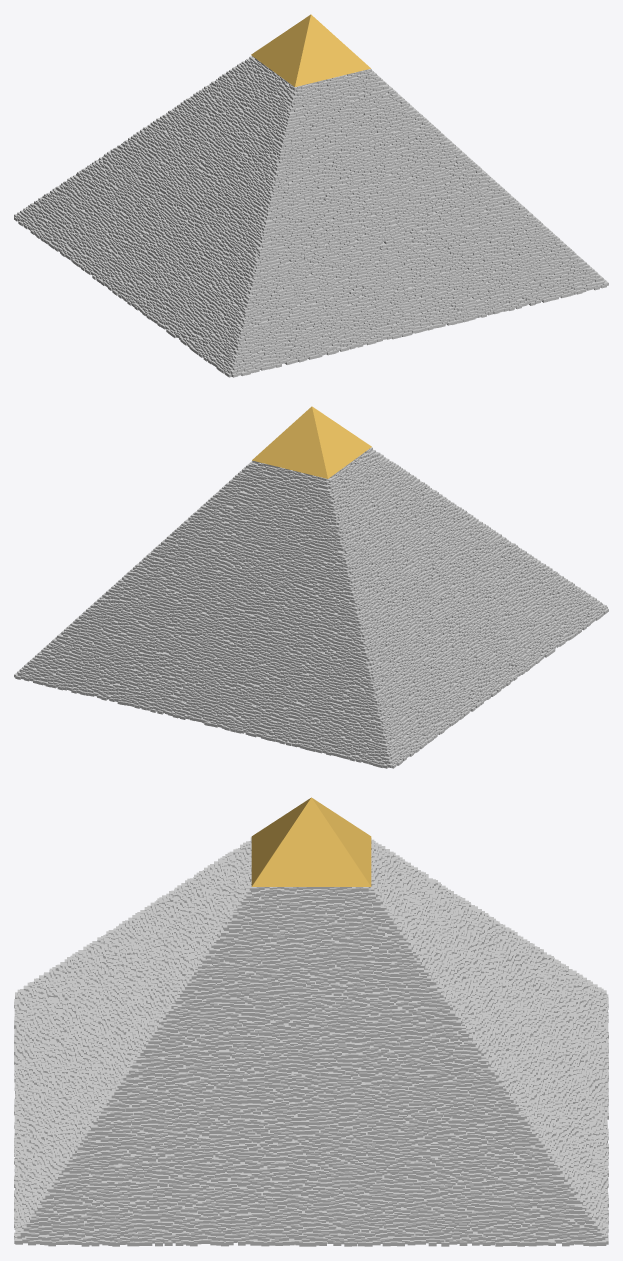
3 renders of one model, top to bottom at view 1: azimuth 30°, elevation 25°; view 2: azimuth 150°, elevation 25°; view 3: azimuth 270°, elevation 25°, orthographic. The views are drawn at different scales.
Parts seen in each view (by area): view 1: Pyramid (Procedural); view 2: Pyramid (Procedural); view 3: Pyramid (Procedural).
Boxes of the visible parts, x1,y1,x2,y2 form: Pyramid (Procedural): [14, 14, 608, 377]; Pyramid (Procedural): [14, 406, 608, 768]; Pyramid (Procedural): [14, 797, 608, 1246].
Bounding box in the file's own units: 4300 × 2579 × 4300.
